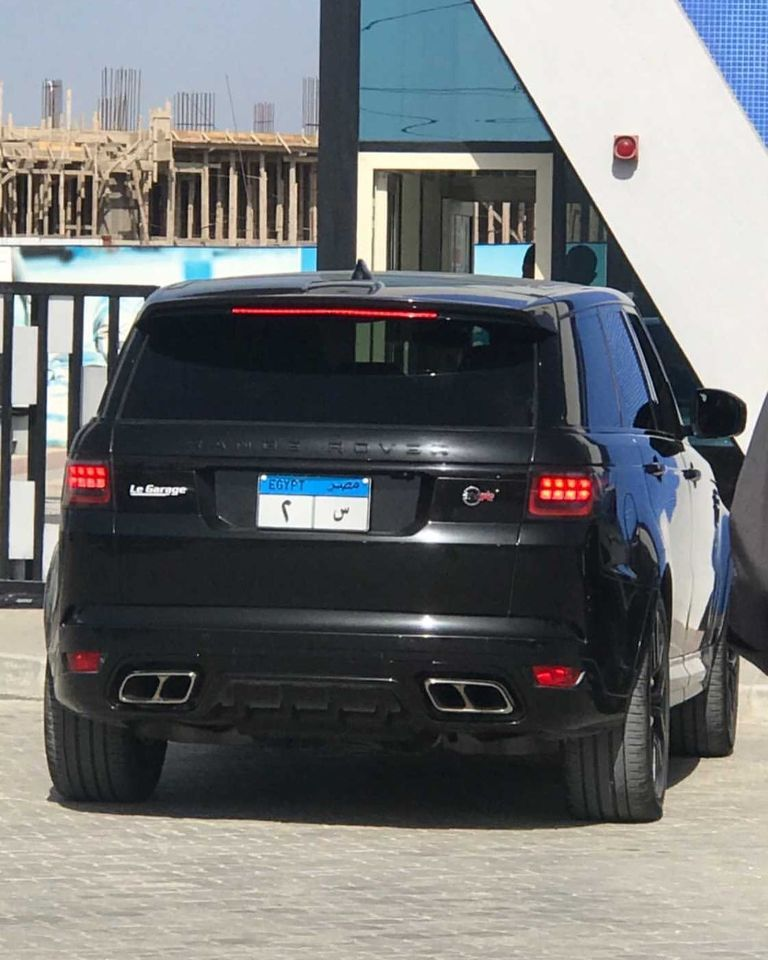carpl: (252, 480, 381, 528)
